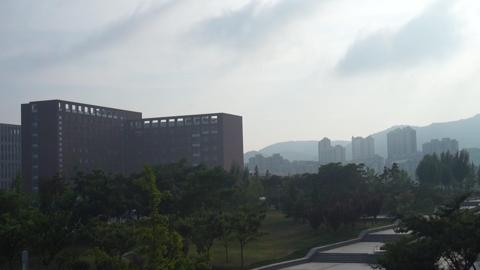UAV: (134, 132, 143, 136)
